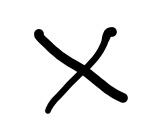mult: (34, 27, 127, 114)
